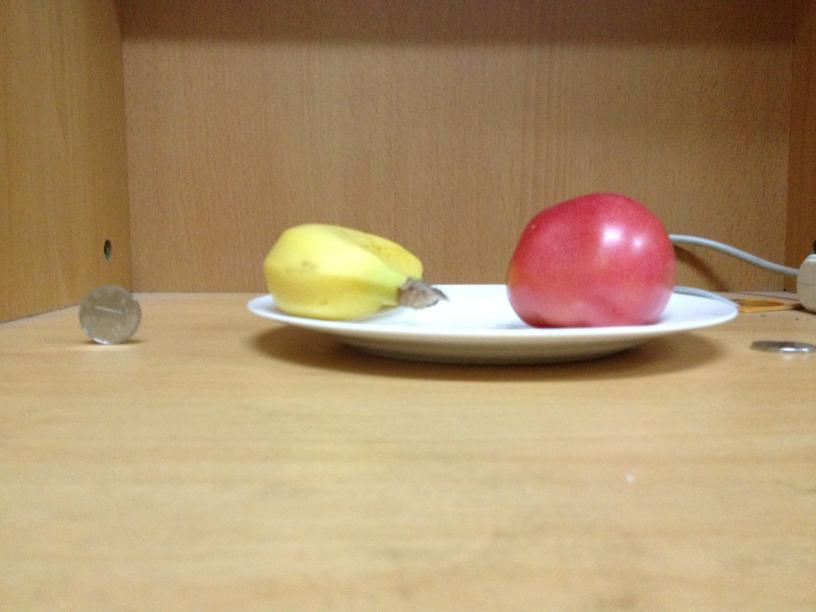banana: (259, 220, 424, 319)
coin: (77, 285, 140, 344)
tomato: (500, 194, 673, 326)
